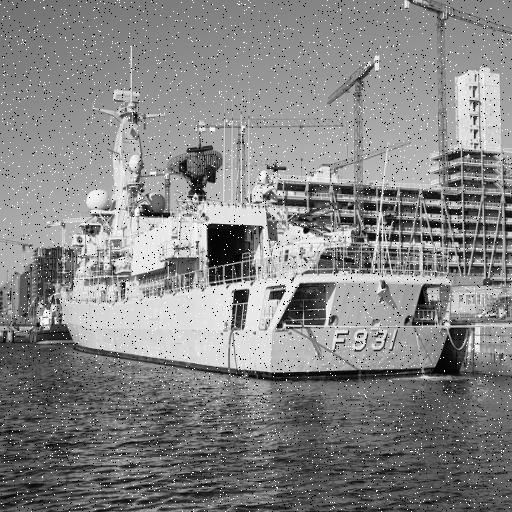Fragata: (56, 46, 455, 376)
